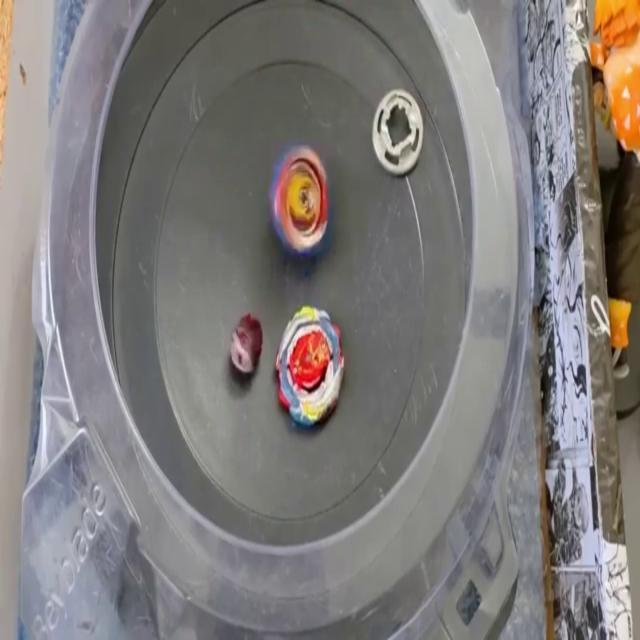Beyblade: (276, 308, 344, 430), (270, 144, 332, 262)
